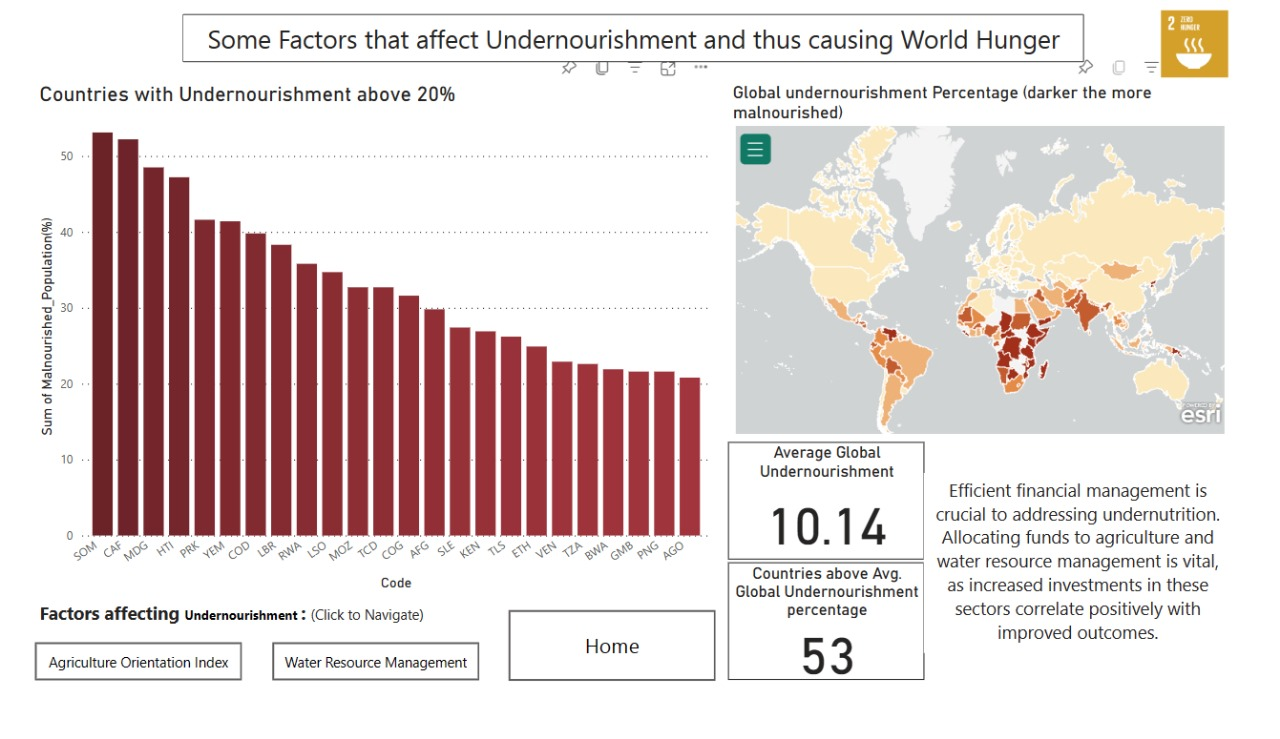

Layout of this report page (visuals, bound fields, positions):
{"tool":"powerbi","page":{"name":"First Page","canvas":[1280,720],"ordinal":0},"visuals":[{"type":"actionButton","box":[12.9,667.2,217.1,40],"z":0,"group":"g1"},{"type":"esriVisual","title":"Global undernourishment Percentage (darker the more malnourished)","fields":{"Location":["malnourishedPopulation_2020.Country"],"Color":["Sum(malnourishedPopulation_2020.Malnourished_Population(%))"]},"box":[738.6,80,528.6,374.3],"z":0},{"type":"textbox","box":[12.9,618.6,712.9,38.6],"z":1000,"group":"g1"},{"type":"columnChart","title":"Countries with Undernourishment above 20%","fields":{"Category":["malnourishedPopulation_2020.Code"],"Y":["Sum(malnourishedPopulation_2020.Malnourished_Population(%))"]},"box":[12.9,80,712.9,538.6],"z":1000},{"type":"actionButton","box":[261.5,667.2,217.1,40],"z":2000,"group":"g1"},{"type":"card","title":"Average Global Undernourishment ","fields":{"Values":["Avg(malnourishedPopulation_2020.Malnourished_Population(%))"]},"box":[738.6,457.1,205.7,122.9],"z":2000},{"type":"actionButton","box":[508.8,633.5,217.1,74.3],"z":3000,"group":"g1"},{"type":"card","title":"Countries above Avg. Global Undernourishment percentage","fields":{"Values":["Count(malnourishedPopulation_2020.Country)"]},"box":[738.6,584.3,205.7,122.9],"z":3000},{"type":"textbox","box":[167.1,8.6,944.3,50],"z":4000},{"type":"image","box":[1187.1,0,80,80],"z":5000},{"type":"textbox","box":[944.3,490,322.9,188.6],"z":6000},{"type":"group","id":"g1","title":"Buttons","box":[12.9,618.6,713.1,89.2],"z":6001}]}

Visuals, with their boxes on the page's 1280x720 design canvas (x1, y1, x2, y2). These are canvas units, not pixel positions in the 1280x739 screenshot, which may show the page scaled, cropped or inside an application window:
actionButton: select_region(13, 667, 230, 707)
"Global undernourishment Percentage (darker the more malnourished)" esriVisual: select_region(739, 80, 1267, 454)
textbox: select_region(13, 619, 726, 657)
"Countries with Undernourishment above 20%" columnChart: select_region(13, 80, 726, 619)
actionButton: select_region(262, 667, 479, 707)
"Average Global Undernourishment " card: select_region(739, 457, 944, 580)
actionButton: select_region(509, 634, 726, 708)
"Countries above Avg. Global Undernourishment percentage" card: select_region(739, 584, 944, 707)
textbox: select_region(167, 9, 1111, 59)
image: select_region(1187, 0, 1267, 80)
textbox: select_region(944, 490, 1267, 679)
"Buttons" group: select_region(13, 619, 726, 708)
